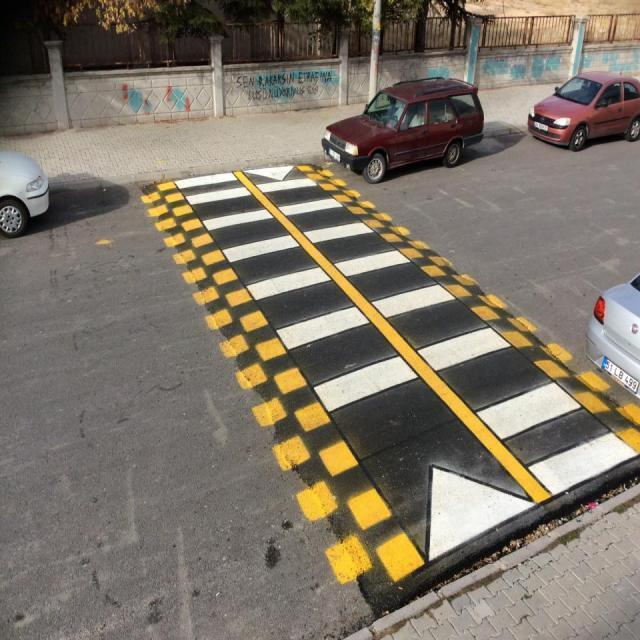speedbreaker: (138, 159, 632, 622)
